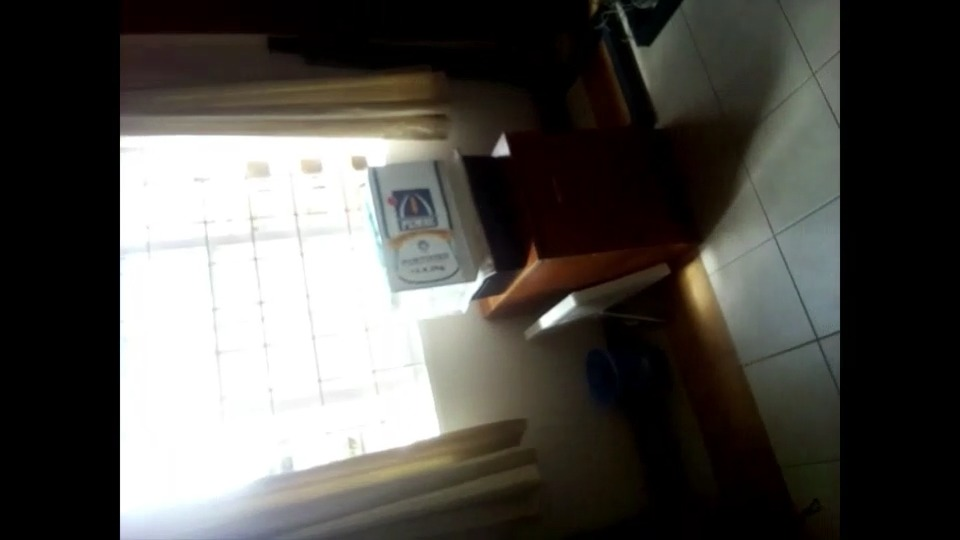wheat_flour_blue_label: (365, 155, 475, 284)
